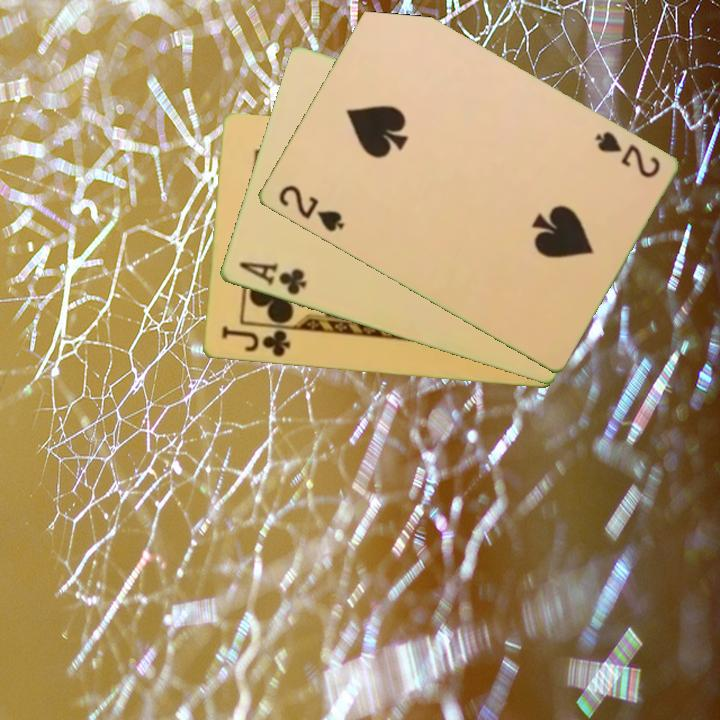2s: (274, 181, 347, 235), (590, 128, 663, 182)
Ac: (234, 258, 309, 299)
Jc: (217, 322, 293, 360)
